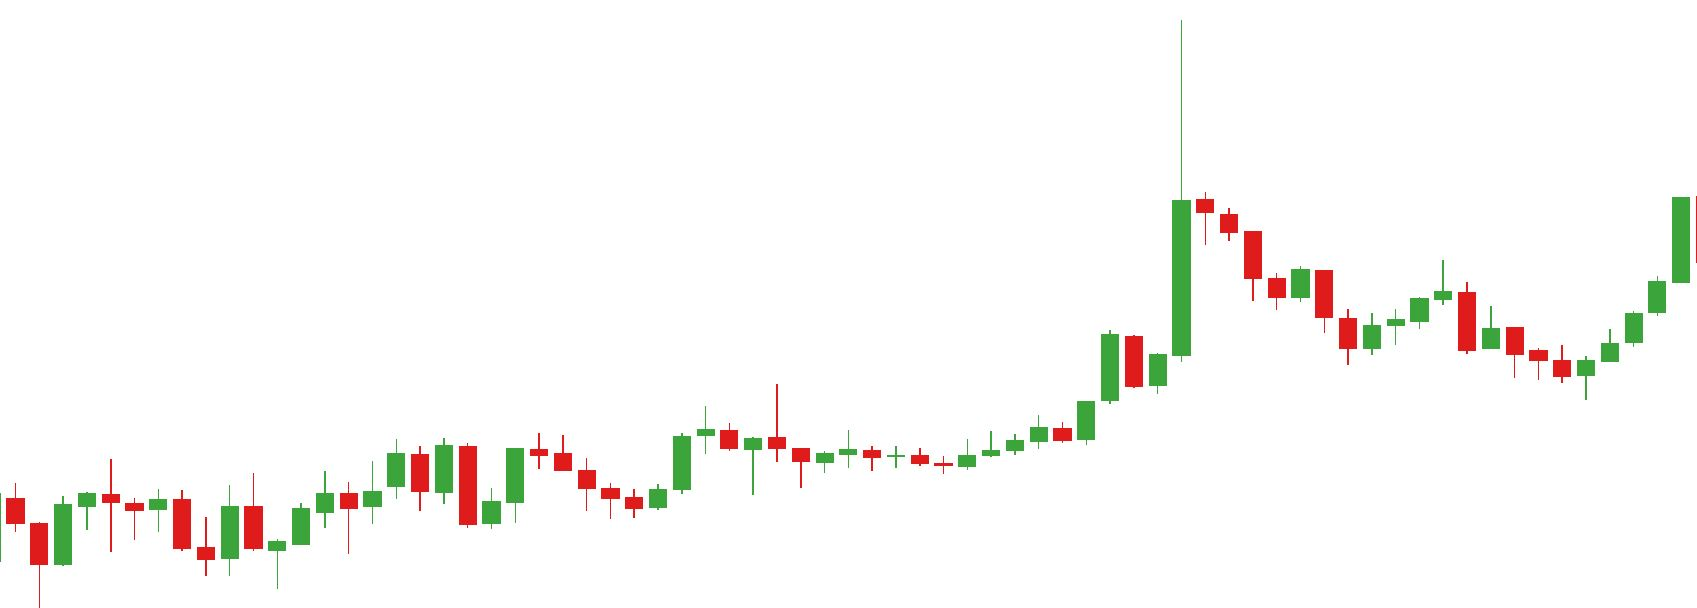buy: (101, 483, 244, 582)
